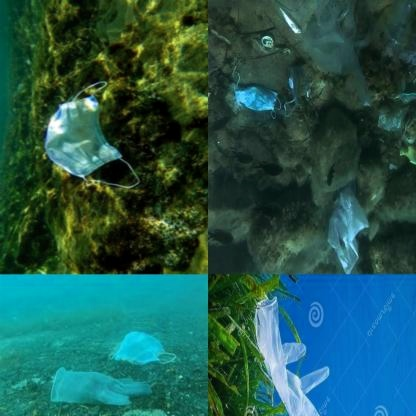Mask: (44, 80, 140, 192), (109, 329, 179, 367), (229, 70, 282, 118)
glove: (251, 295, 333, 416), (51, 364, 153, 406)
